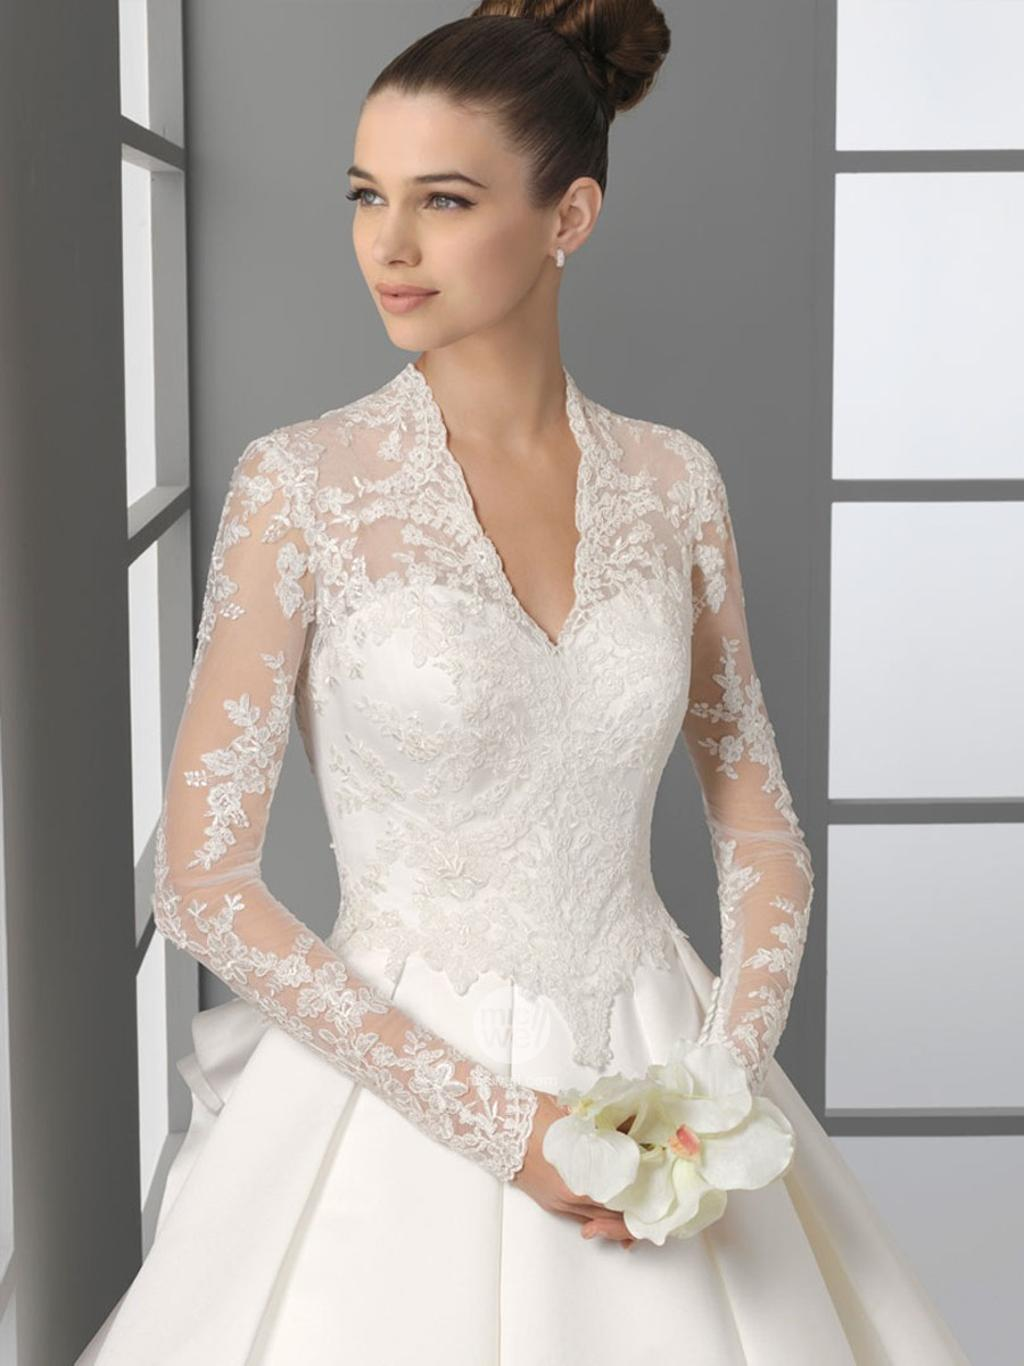face: (352, 91, 552, 350)
